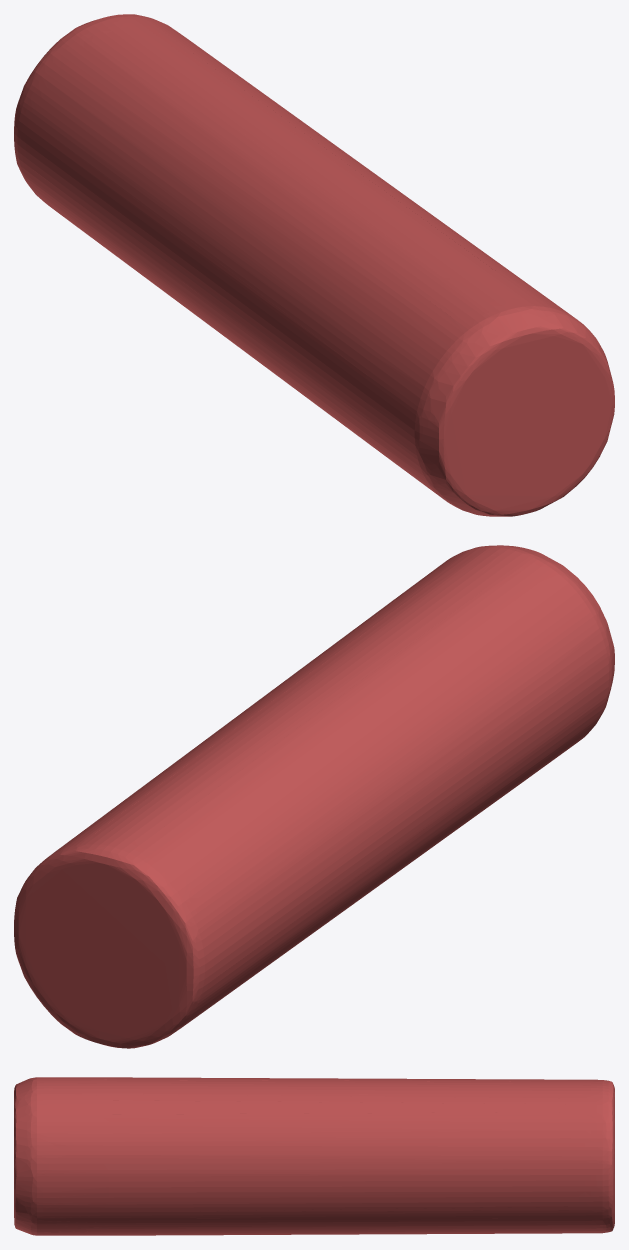
File: hulls.glb
The picture shows the model from 3 angles, top to bottom: view 1: azimuth 30°, elevation 25°; view 2: azimuth 150°, elevation 25°; view 3: azimuth 270°, elevation 25°; orthographic projection. The views are drawn at different scales.
Size of the model in its own units: 0.0588 by 0.0589 by 0.223.
